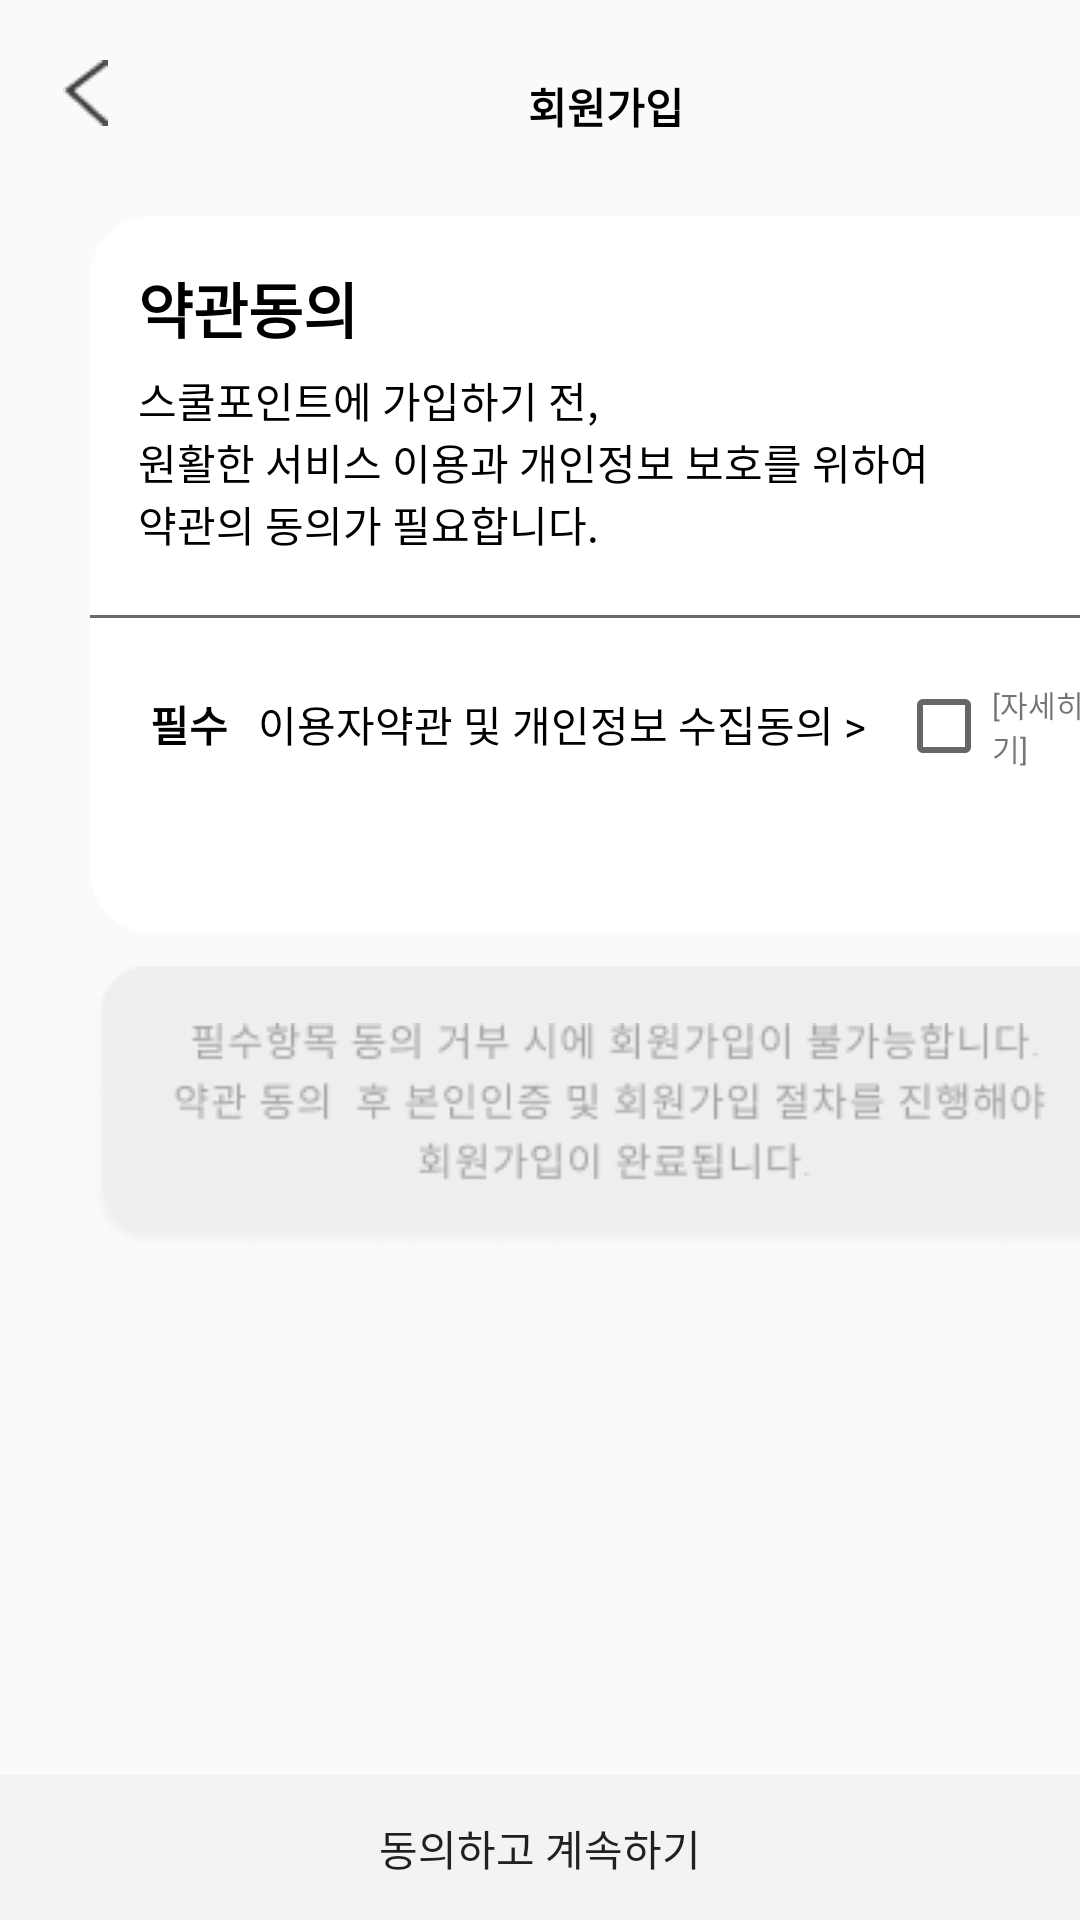

Where icons sit on this 1080w x 1920h app screen, as (x1, y1, x2, y2):
back: (65, 60, 108, 126)
